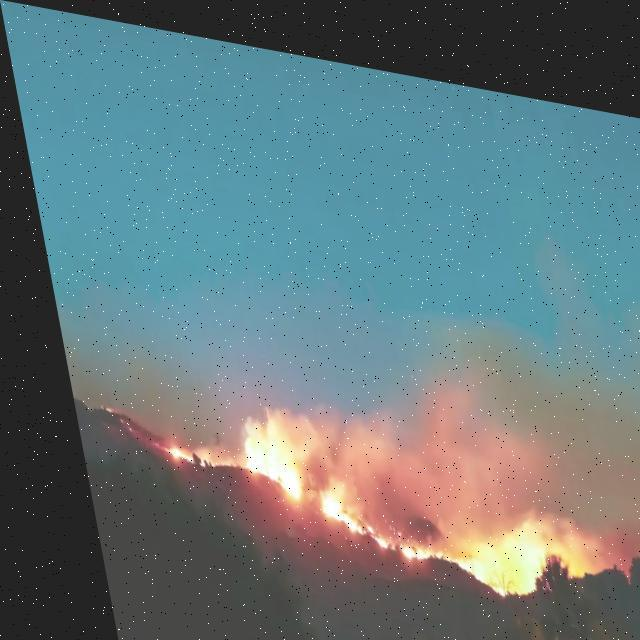Fire: (375, 489, 575, 602), (225, 415, 288, 497), (298, 471, 372, 539), (148, 441, 214, 469), (88, 401, 100, 413)
